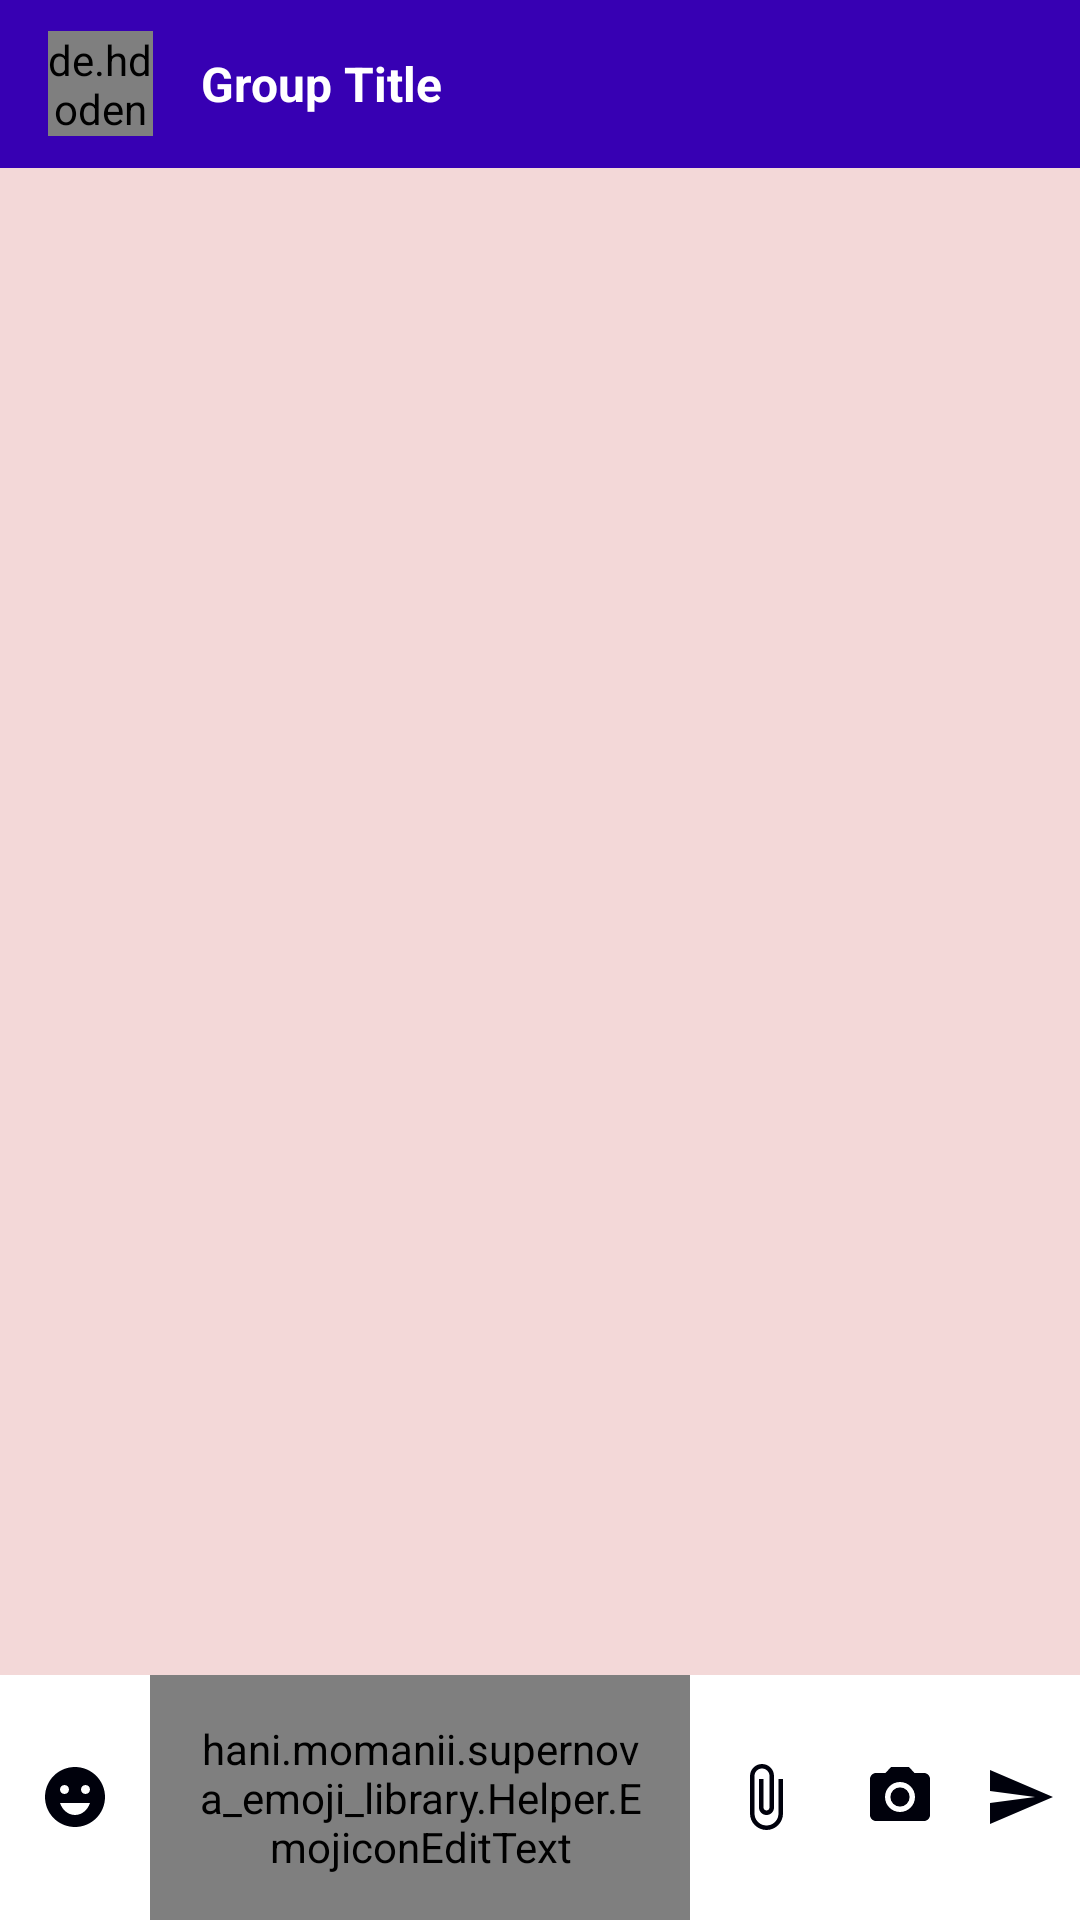

Icon click points for this 1080w x 1920h phone screenshot, format (x,y):
attach file: (766,1797)
camera: (900,1794)
emoji emotions: (75,1797)
send: (1021,1797)
